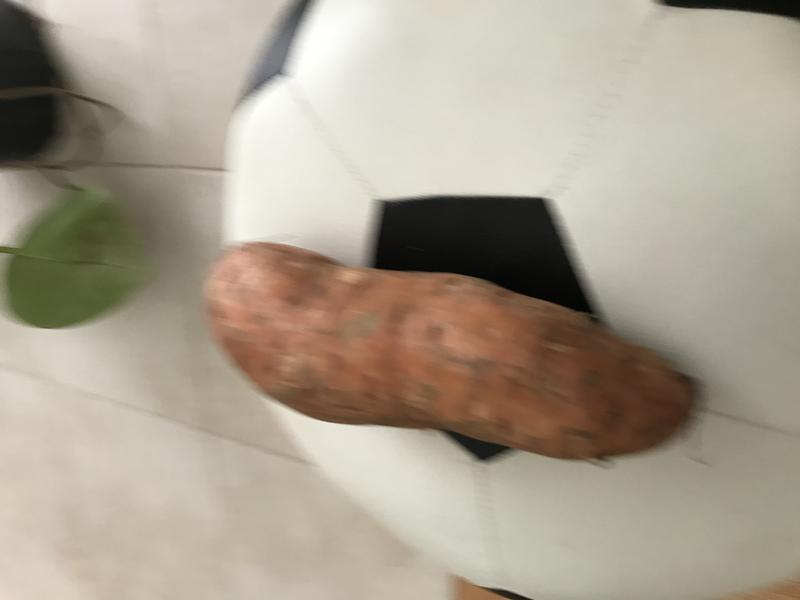sweet_potato: (182, 225, 716, 471)
